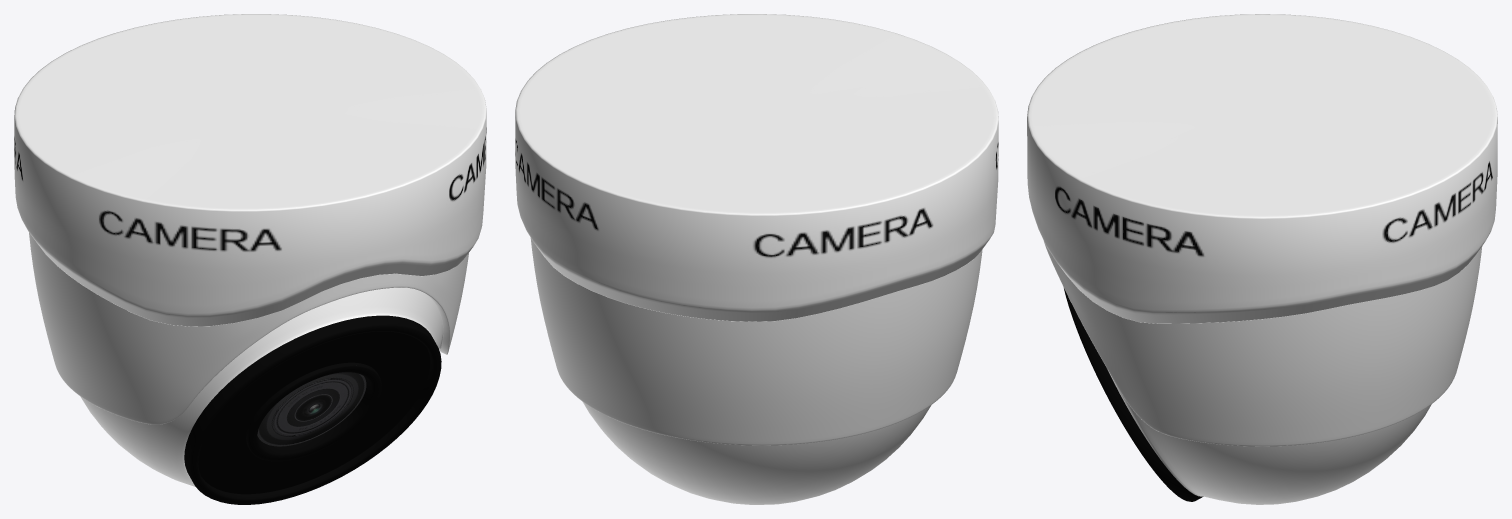
Rendered from putongqiuji.gltf.
3 renders of one model, left to right at view 1: azimuth 30°, elevation 25°; view 2: azimuth 150°, elevation 25°; view 3: azimuth 270°, elevation 25°, orthographic. The views are drawn at different scales.
Parts seen in each view (by area): view 1: Group001; view 2: Group001; view 3: Group001.
Part boxes in pixels (<box>): Group001: <box>14,14,486,504</box>; Group001: <box>515,14,998,504</box>; Group001: <box>1027,14,1497,504</box>.
Bounding box in the file's own units: 0.1436 × 0.1217 × 0.1398.
Materials: 1 (1 with a texture image).
